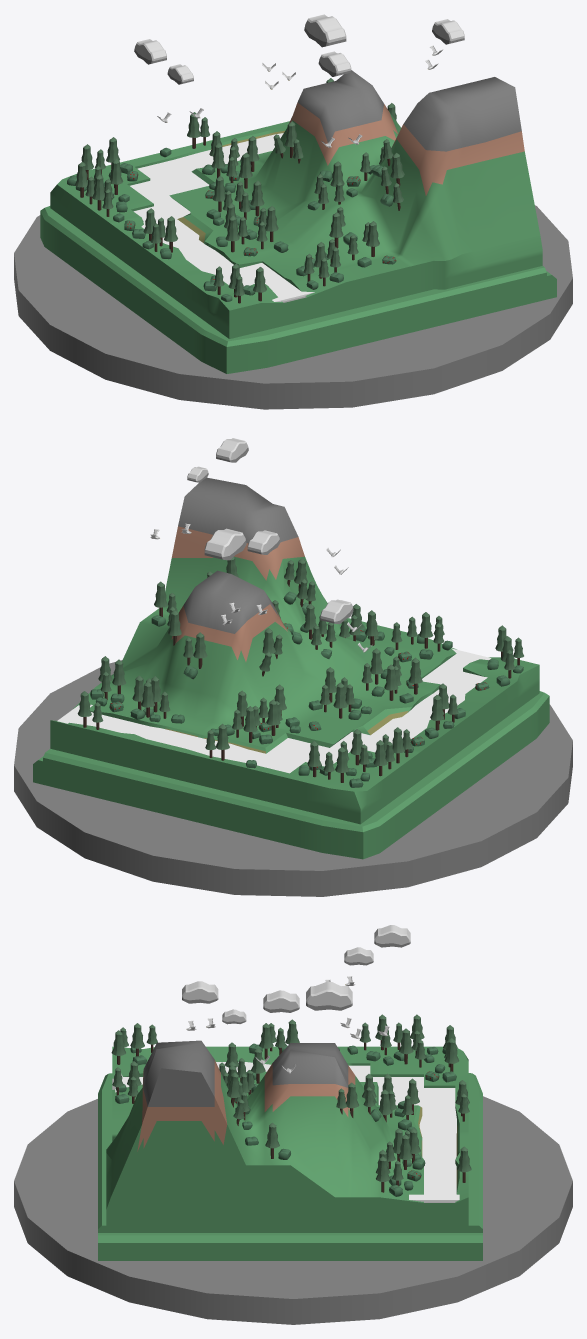
The model's file is landscape.gltf.
3 renders of one model, top to bottom at view 1: azimuth 30°, elevation 25°; view 2: azimuth 150°, elevation 25°; view 3: azimuth 270°, elevation 25°, orthographic.
Visible parts, largest first — view 1: pCube1, pCylinder1, pCube2, pCube164, pCube168, pCube167, pCube169; view 2: pCube1, pCylinder1, pCube2, pCube164, pCube169, pCube168, pCube167; view 3: pCube1, pCylinder1, pCube2, pCube164, pCube167, pCube168, pCube169.
Part boxes in pixels (x1,y1,x2,y2): pCube1: (40,70,556,373); pCylinder1: (14,205,572,409); pCube2: (130,133,314,301); pCube164: (304,14,346,47); pCube168: (318,51,351,76); pCube167: (432,19,464,44); pCube169: (134,39,166,64); pCube1: (33,477,549,859); pCylinder1: (14,660,572,896); pCube2: (57,648,491,773); pCube164: (204,528,246,560); pCube169: (320,599,353,624); pCube168: (247,530,280,554); pCube167: (216,438,248,462); pCube1: (98,1040,482,1260); pCylinder1: (14,1096,572,1324); pCube2: (115,1062,459,1201); pCube164: (306,982,352,1010); pCube167: (182,981,218,1003); pCube168: (263,990,299,1012); pCube169: (374,925,410,947).
Bounding box in the file's own units: 7.85 × 4.26 × 7.85.
